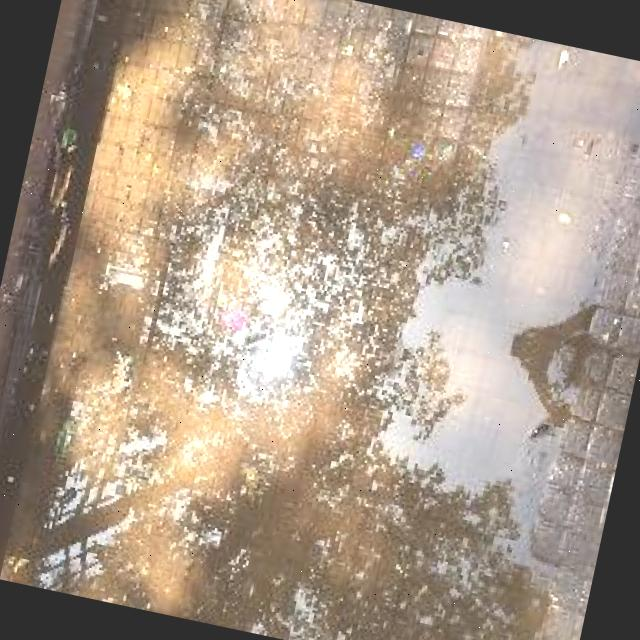stagnation: (162, 9, 640, 539)
